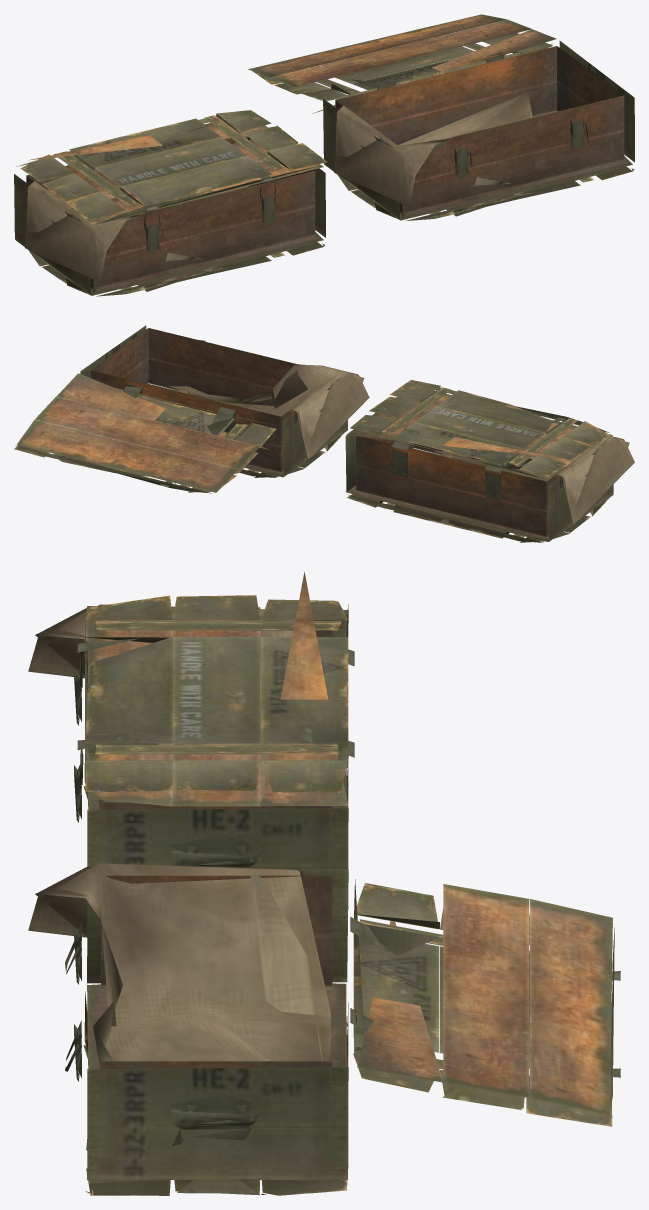
The model's file is old_military_crate.glb.
3 renders of one model, top to bottom at view 1: azimuth 30°, elevation 25°; view 2: azimuth 150°, elevation 25°; view 3: azimuth 270°, elevation 25°, orthographic. The views are drawn at different scales.
Visible parts, largest first — view 1: old_military_crate_lid_a; view 2: old_military_crate_lid_a; view 3: old_military_crate_lid_a.
Boxes of the visible parts, <box> form: old_military_crate_lid_a: <box>14,14,634,296</box>; old_military_crate_lid_a: <box>14,325,634,542</box>; old_military_crate_lid_a: <box>28,571,620,1195</box>.
Size of the model in its own units: 1.82 by 0.3054 by 0.967.
1 material, 1 textured.
